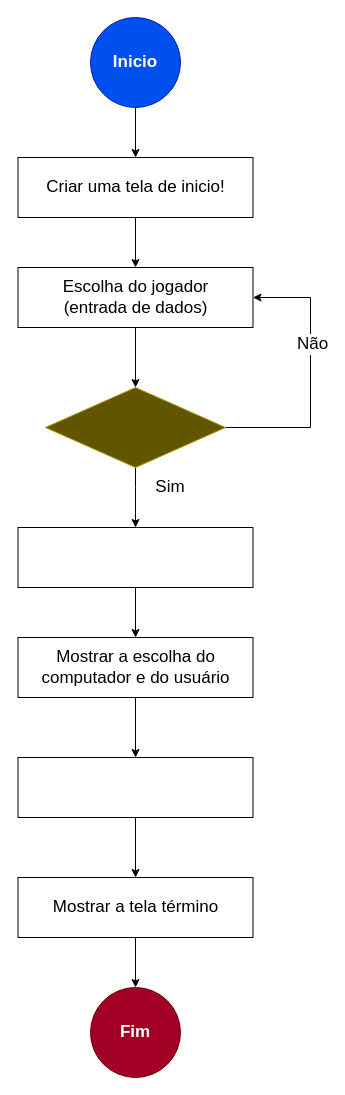
This 345x1095 diagram has some shape labels left out. The box of each missing label's shape, as (x1, y1, x2, y2) in pixels:
0 <= opção <= 2: (44, 386, 226, 468)
Gerar a escolha do meu computador: (17, 526, 253, 588)
Lógica do Jogo!: (17, 756, 253, 818)
